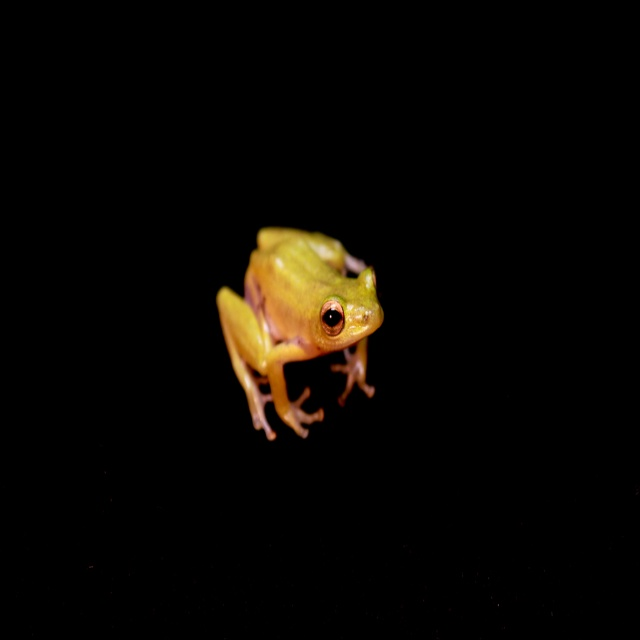Frog: (215, 226, 384, 441)
